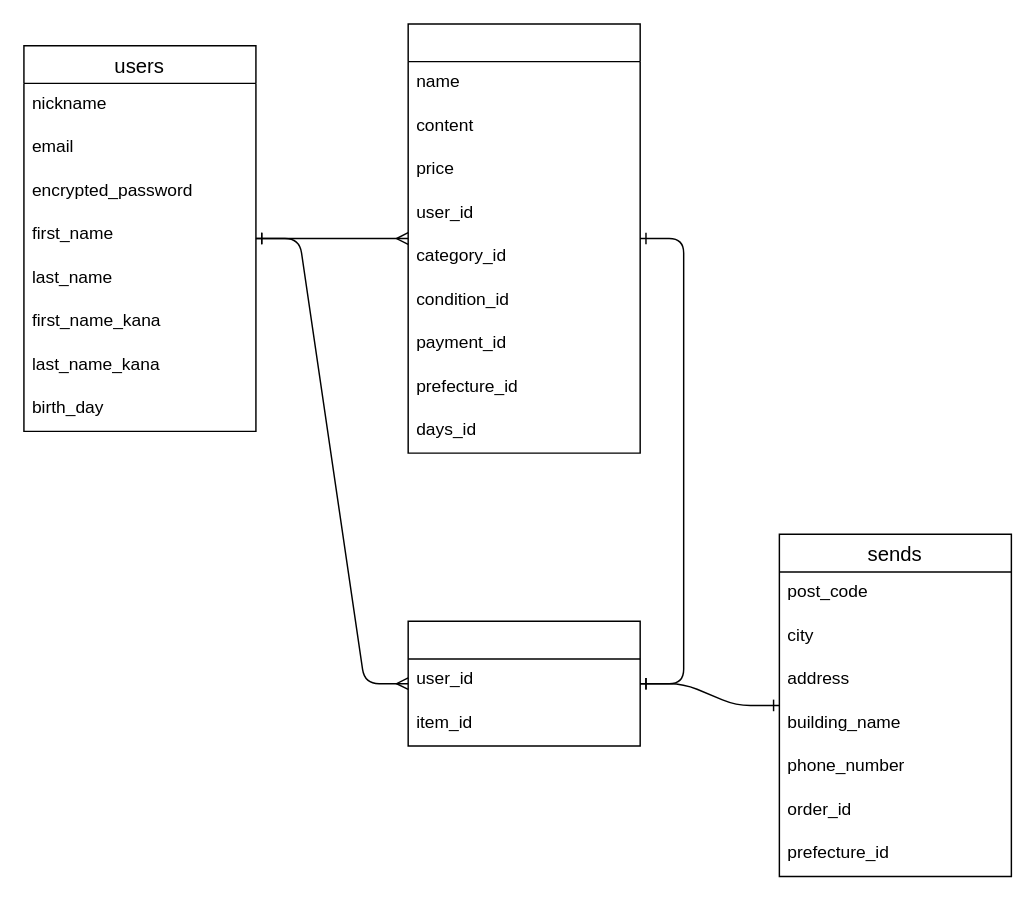
The diagram is 1035 pixels wide and 900 high, and some of its shapes have lost their labels. The shapes that lost their labels are listed below. From the top down, each one's box as (x1, y1, x2, y2) in pixels, then its label:
(407, 22, 640, 453): items
(407, 620, 640, 746): orders
